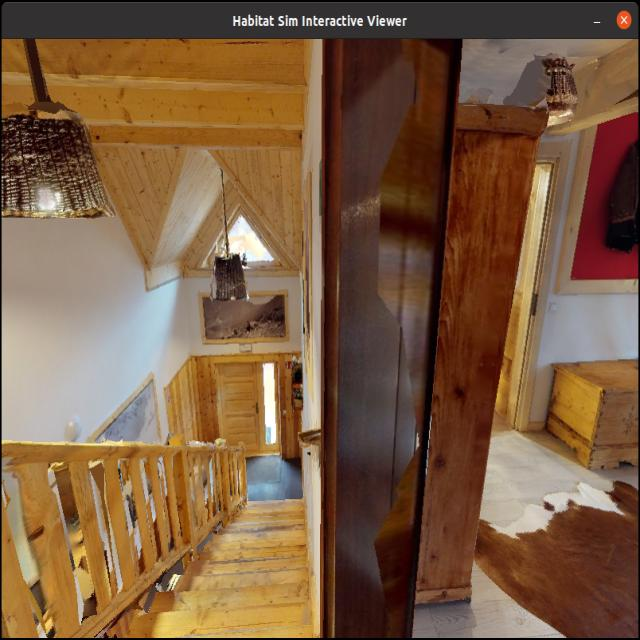stairs: (0, 437, 306, 639)
